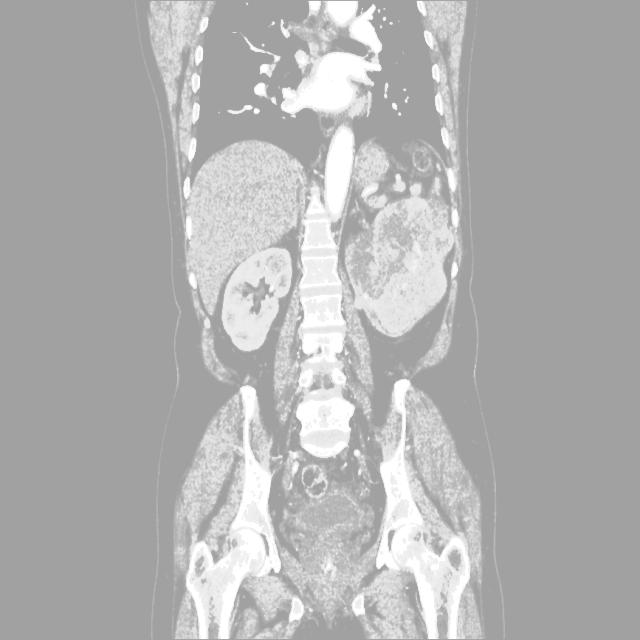TUMOR: (112, 166, 518, 346)
